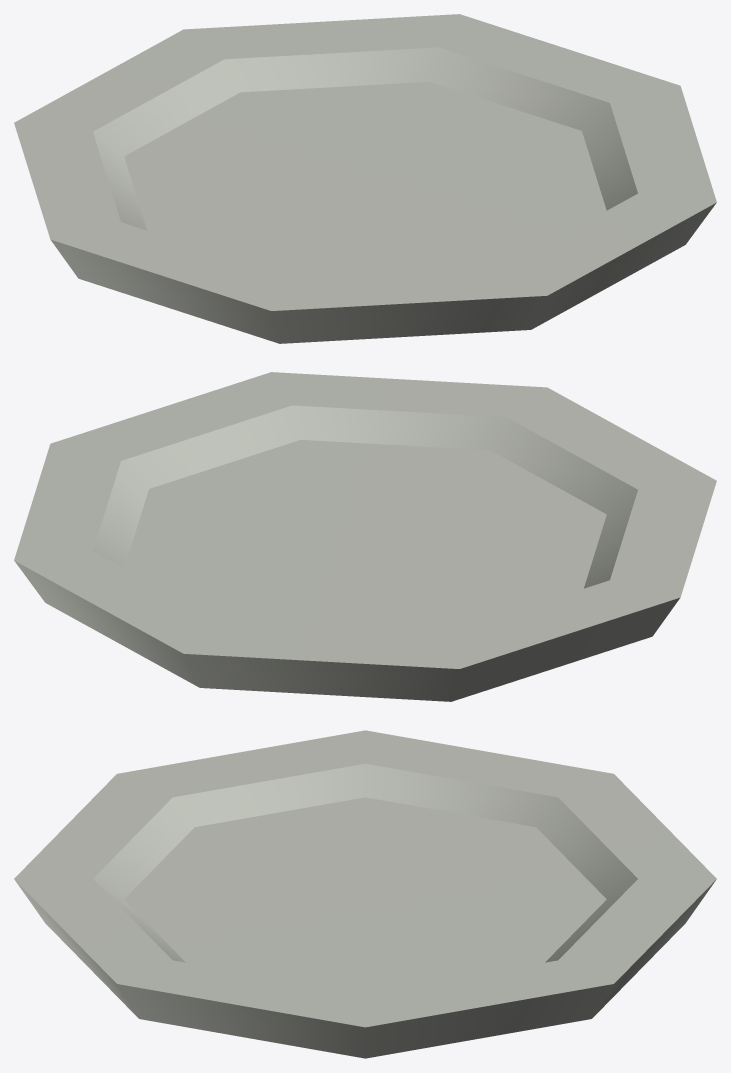
The model's file is Plate_1_A.fbx.
The picture shows the model from 3 angles, top to bottom: view 1: azimuth 30°, elevation 25°; view 2: azimuth 150°, elevation 25°; view 3: azimuth 270°, elevation 25°; orthographic projection. The views are drawn at different scales.
Visible parts, largest first — view 1: Plate_1_A; view 2: Plate_1_A; view 3: Plate_1_A.
Boxes of the visible parts, box(x1,y1,x2,y2) form: Plate_1_A: box(14, 14, 716, 343); Plate_1_A: box(14, 372, 716, 701); Plate_1_A: box(14, 730, 716, 1058).
Size of the model in its own units: 38.95 by 2.72 by 38.95.
